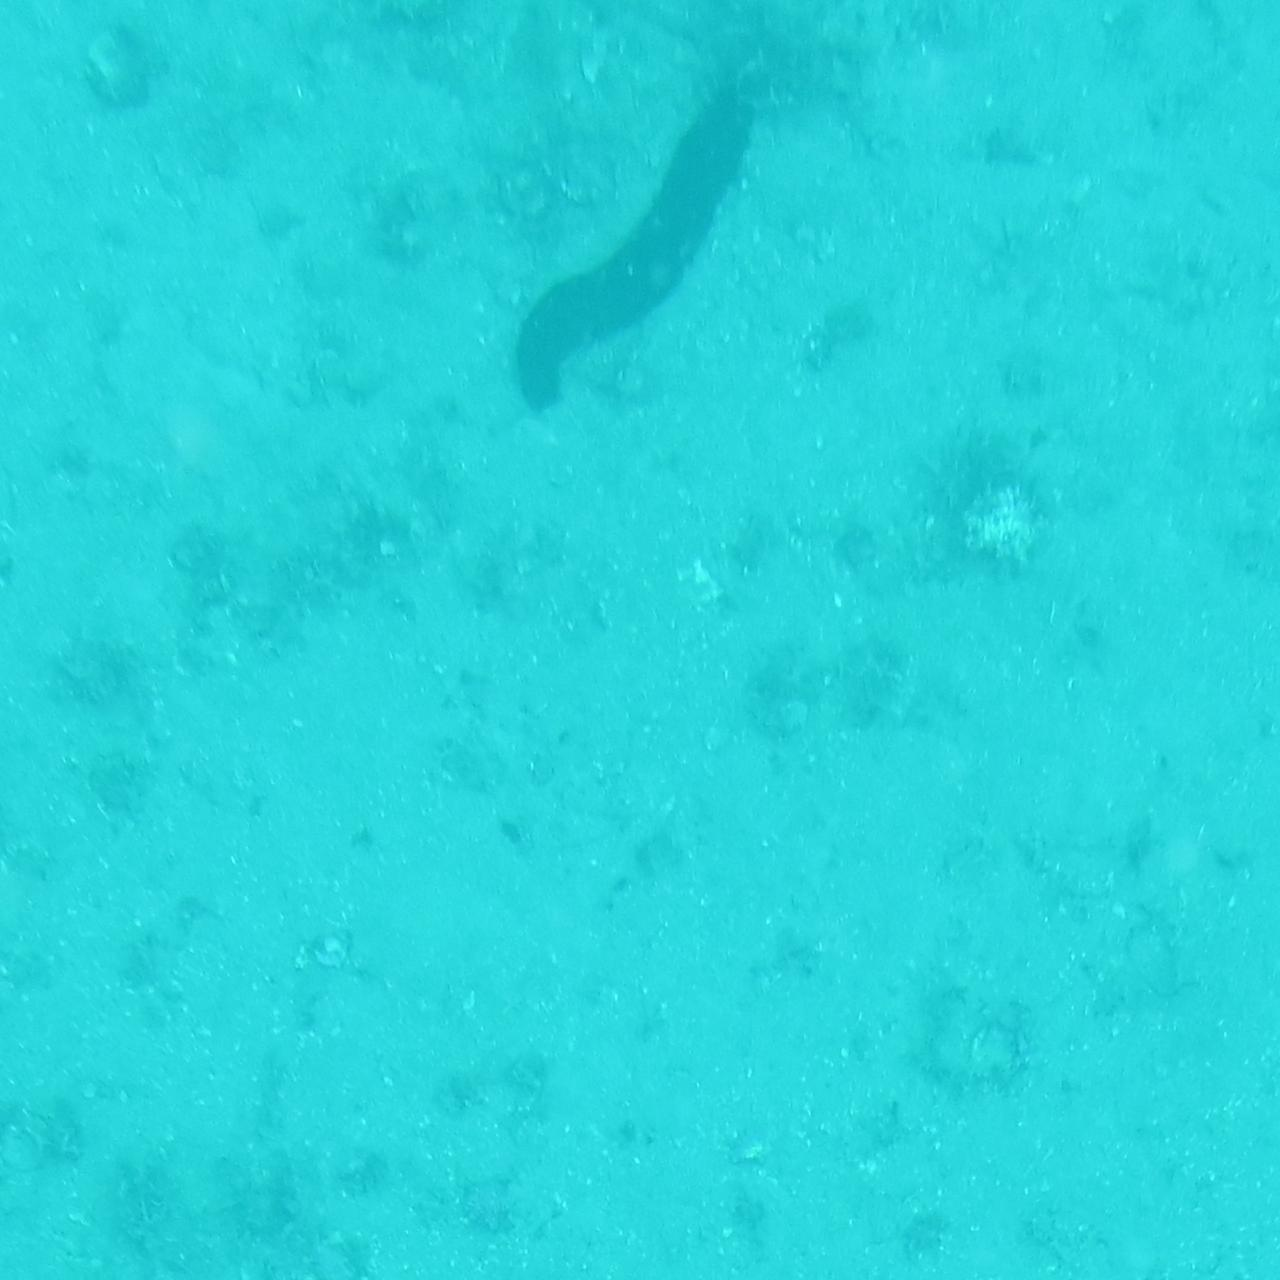Holothuria tubulosa: (508, 75, 772, 427)
